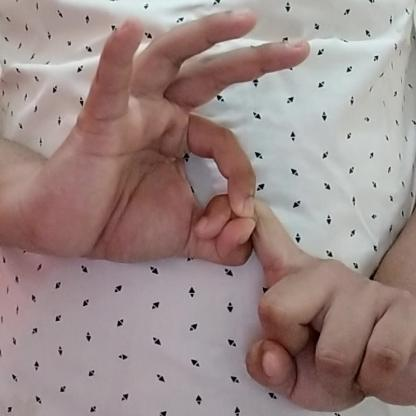Q: (46, 1, 406, 416)
